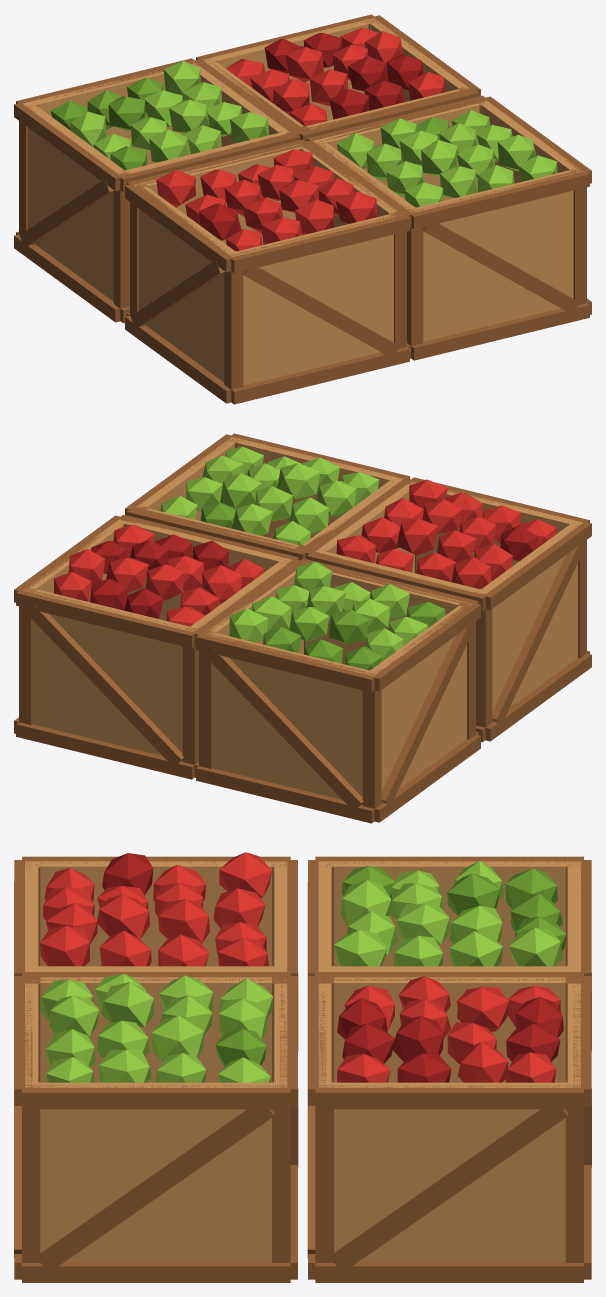
Rendered from Load_Apples.glb.
The picture shows the model from 3 angles, top to bottom: view 1: azimuth 30°, elevation 25°; view 2: azimuth 150°, elevation 25°; view 3: azimuth 270°, elevation 25°; orthographic projection. The views are drawn at different scales.
Visible parts, largest first — view 1: Load_Apples_Mesh; view 2: Load_Apples_Mesh; view 3: Load_Apples_Mesh.
Part boxes in pixels (x1,y1,x2,y2): Load_Apples_Mesh: [14, 14, 591, 404]; Load_Apples_Mesh: [14, 433, 591, 823]; Load_Apples_Mesh: [14, 852, 591, 1282].
Bounding box in the file's own units: 1.79 × 0.8058 × 1.85.
1 material, 1 textured.
